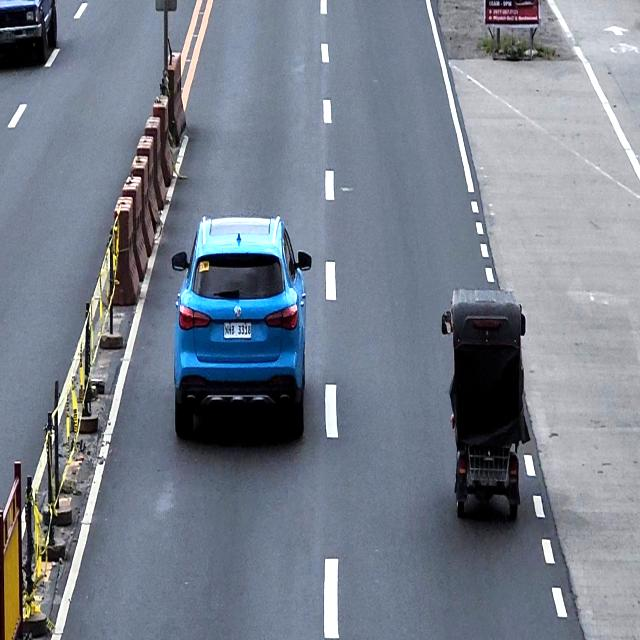Car: (171, 214, 315, 448), (0, 0, 59, 67)
E-bike: (442, 286, 530, 524)
License-Plate: (224, 323, 252, 339)
